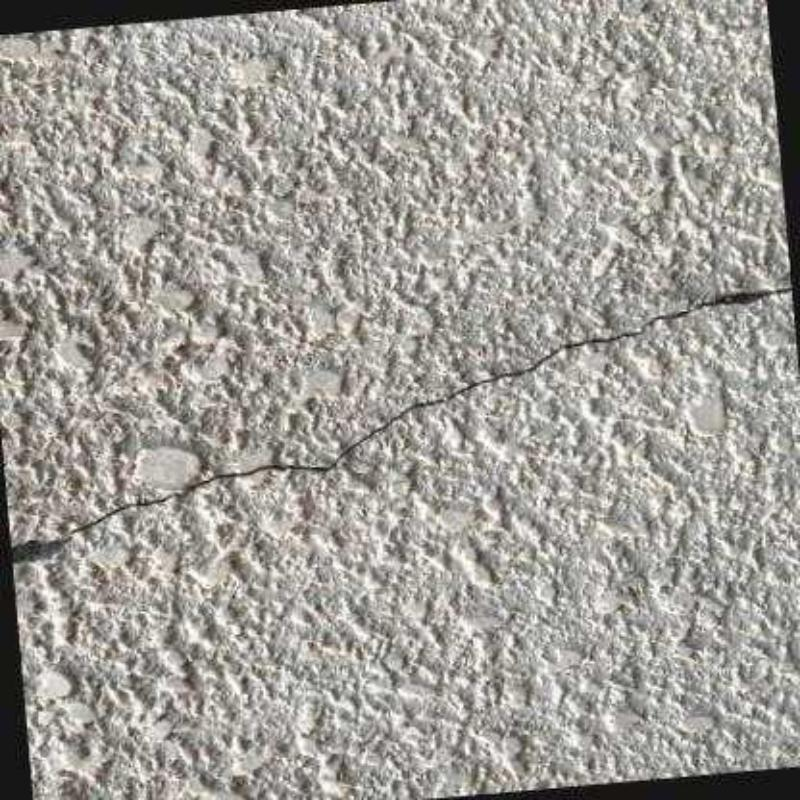pothole: (12, 288, 793, 553)
